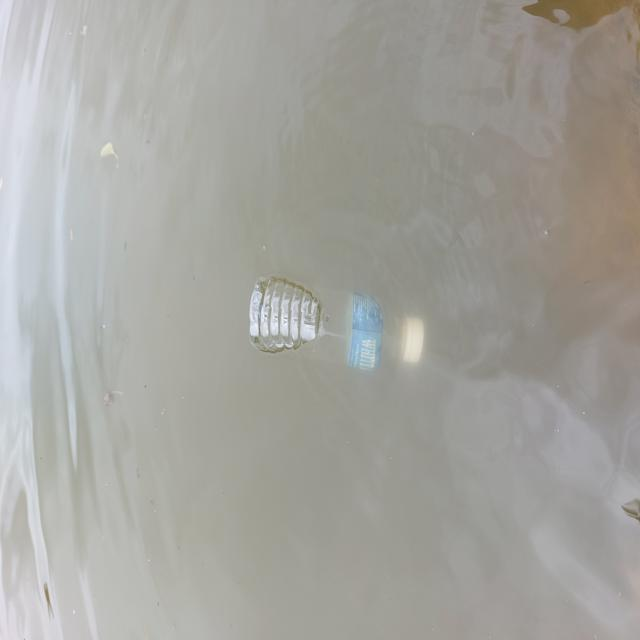waterbottle: (248, 271, 447, 394)
